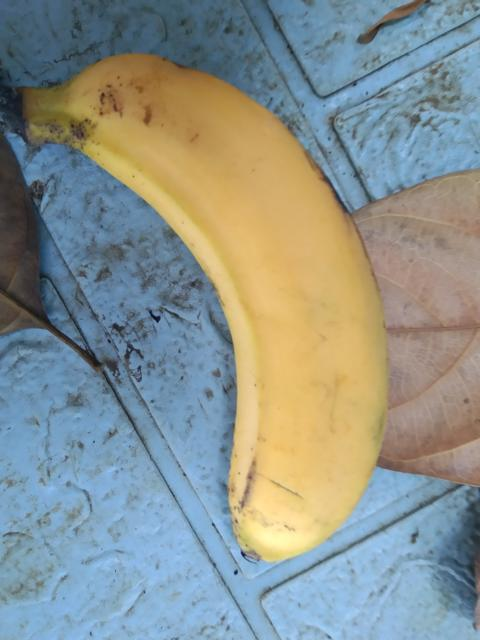freshripe: (54, 51, 411, 593)
